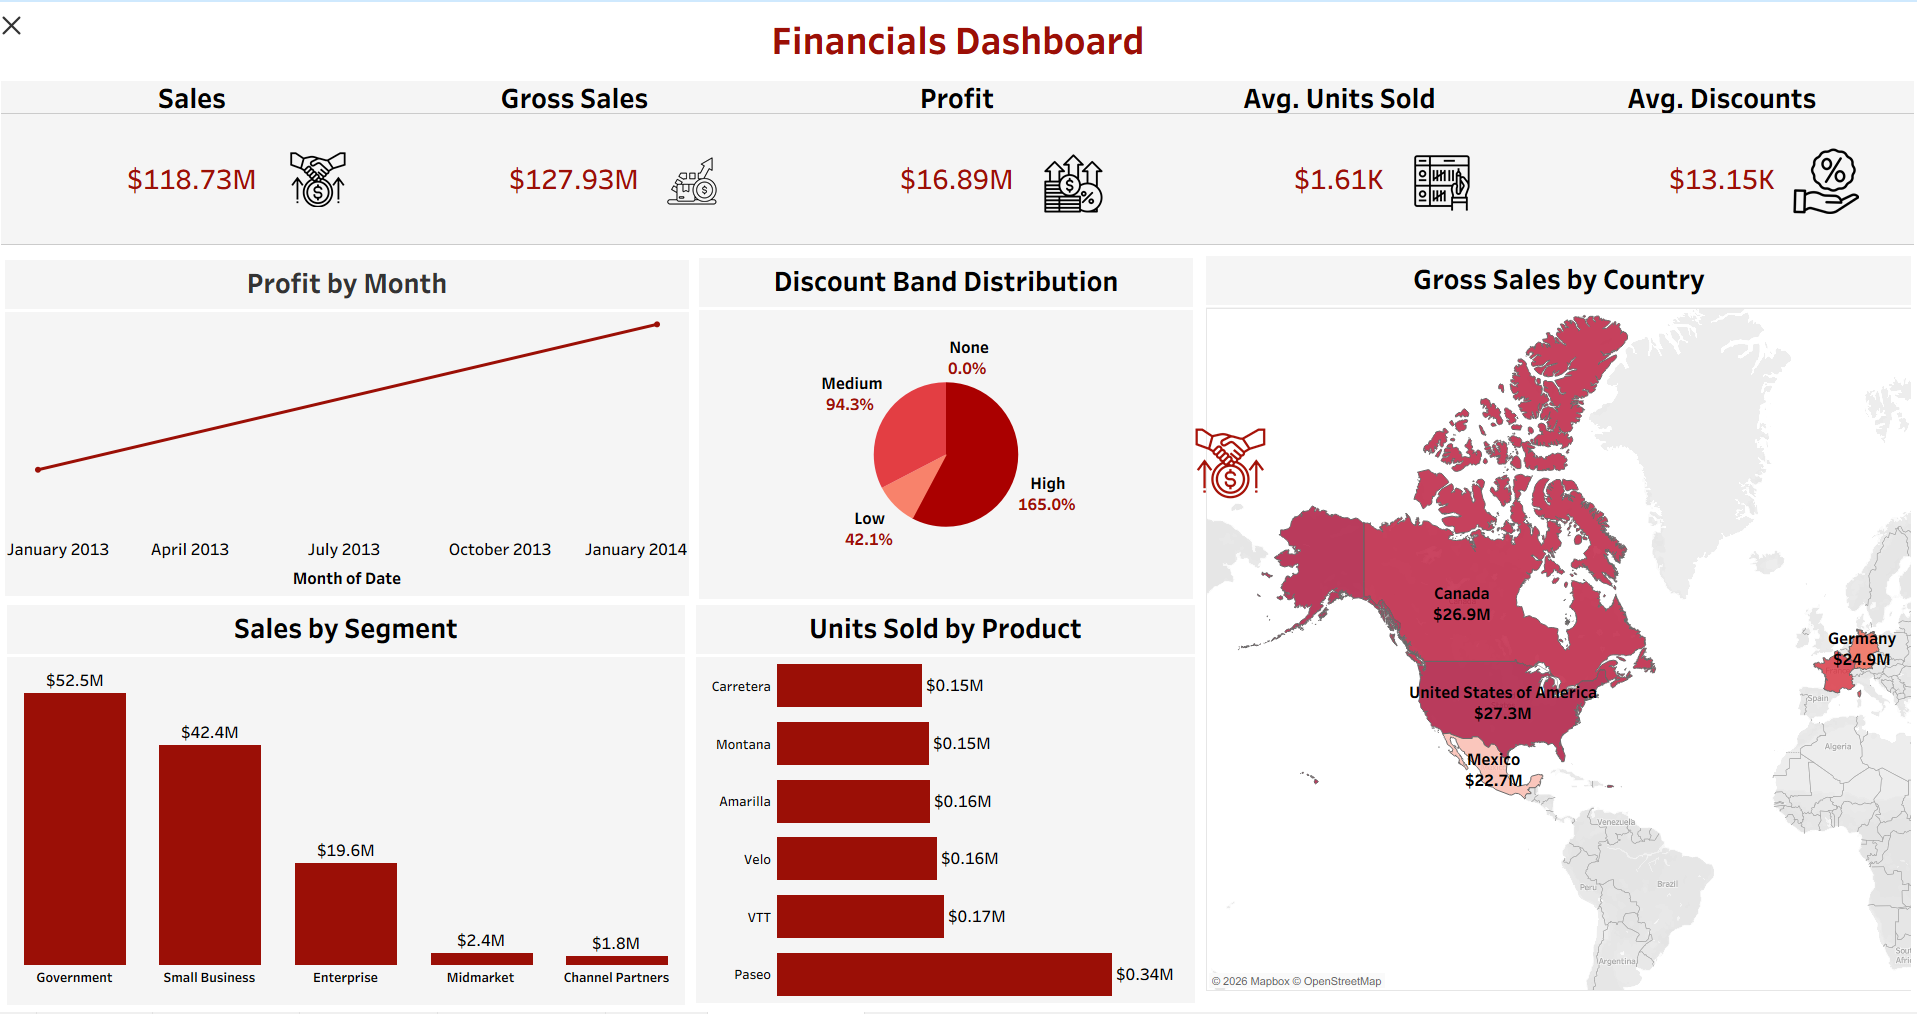

What the dashboard file says about the page in this screenshot:
{"tool":"tableau","page":{"name":"Financials Dashboard ","canvas":[1000,1000],"units":"permille","ordinal":0},"visuals":[{"type":"dashboard-object","box":[0,9.3,14,28]},{"type":"title","box":[4.7,9.3,990.6,65.4]},{"type":"worksheet","title":"Kpis","mark":"Automatic","box":[1.8,78.3,996.5,162.4]},{"type":"image","param":"Image/offer.png","box":[935.1,144.9,36.3,65.4]},{"type":"image","param":"Image/acquisition(1).png","box":[151.5,147.2,35.7,56.1]},{"type":"image","param":"Image/sales.png","box":[346.8,149.5,38,54.9]},{"type":"image","param":"Image/interest-rate.png","box":[544.4,149.5,41.5,59.6]},{"type":"image","param":"Image/count.png","box":[736.3,149.5,38.6,58.4]},{"type":"worksheet","title":"Gross Sales by Country","mark":"Automatic","box":[629,251.2,367.5,743]},{"type":"worksheet","title":"Discount Band Distribution","mark":"Pie","box":[364.9,253.5,257.3,337.6]},{"type":"worksheet","title":"Profit by Month","mark":"Automatic","rows":["Profit"],"cols":["Date"],"box":[3.5,255.8,356.1,332.9]},{"type":"image","param":"Image/acquisition.png","box":[622.8,420.6,49.1,71.3]},{"type":"worksheet","title":"Sales by Segment","mark":"Automatic","rows":["Sales"],"cols":["Segment"],"box":[4.7,597,353.2,396]},{"type":"worksheet","title":"Units Sold by Product","mark":"Automatic","rows":["Product"],"cols":["Units Sold"],"box":[363.7,597,259.6,393.7]}]}

Visuals, with their boxes on the dashboard's canvas, which has no fixed pixel size, in thousandths of its width and height (x1, y1, x2, y2). These are canvas units, not pixel positions in the 1917x1014 screenshot, which may show the page scaled, cropped or inside an application window:
dashboard-object: crop(0, 9, 14, 37)
title: crop(5, 9, 995, 75)
"Kpis" worksheet: crop(2, 78, 998, 241)
image: crop(935, 145, 971, 210)
image: crop(152, 147, 187, 203)
image: crop(347, 150, 385, 204)
image: crop(544, 150, 586, 209)
image: crop(736, 150, 775, 208)
"Gross Sales by Country" worksheet: crop(629, 251, 996, 994)
"Discount Band Distribution" worksheet (Pie marks): crop(365, 254, 622, 591)
"Profit by Month" worksheet: crop(4, 256, 360, 589)
image: crop(623, 421, 672, 492)
"Sales by Segment" worksheet: crop(5, 597, 358, 993)
"Units Sold by Product" worksheet: crop(364, 597, 623, 991)
